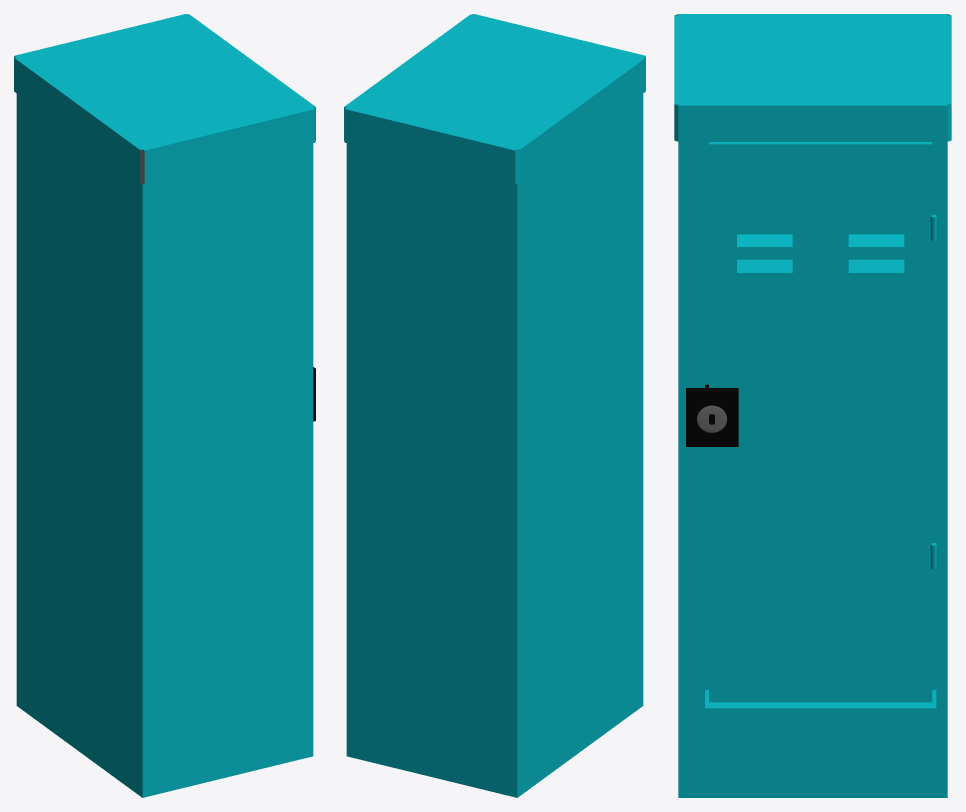
The model's file is Locker.fbx.
3 renders of one model, left to right at view 1: azimuth 30°, elevation 25°; view 2: azimuth 150°, elevation 25°; view 3: azimuth 270°, elevation 25°, orthographic. The views are drawn at different scales.
Parts seen in each view (by area): view 1: Cube; view 2: Cube; view 3: Cube.
Boxes of the visible parts, x1=… form: Cube: x1=14, y1=14, x2=315, y2=797; Cube: x1=344, y1=14, x2=645, y2=797; Cube: x1=674, y1=14, x2=951, y2=797.
Bounding box in the file's own units: 211 × 726 × 263.
